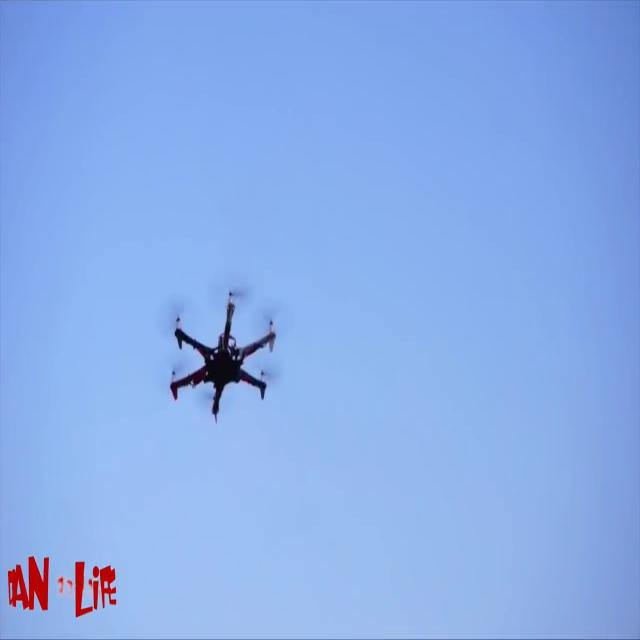drone: (133, 258, 294, 434)
